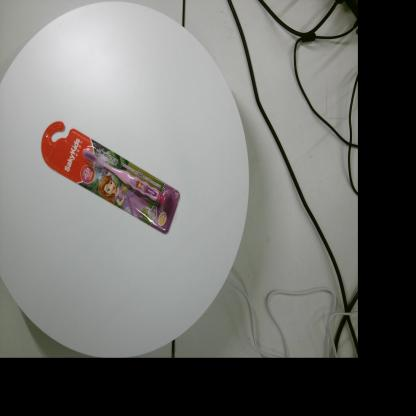Personal Hygiene: (41, 121, 180, 234)
